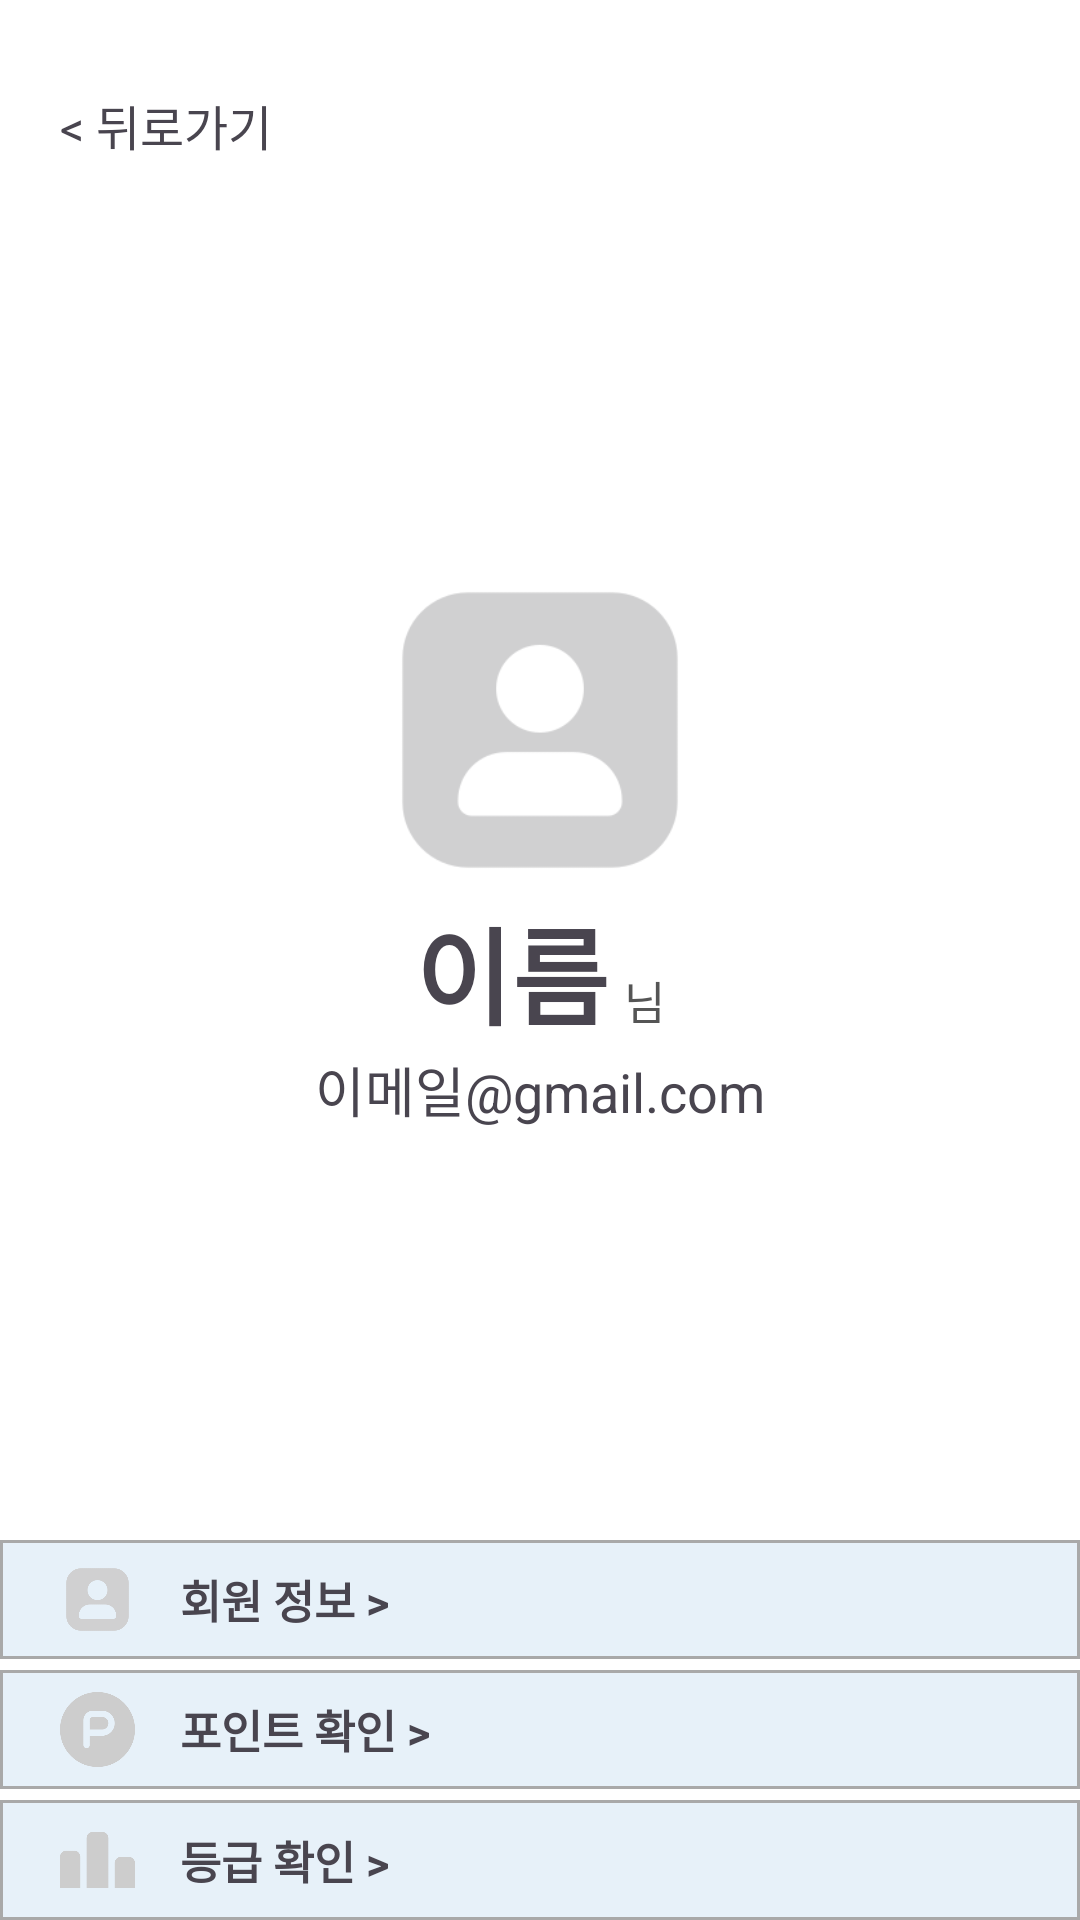

Named icons in this screenshot (1080 x 1920) and their centers, [x,y]:
point: [97,1729]
profile: [540,730], [97,1599]
ranking: [97,1860]
